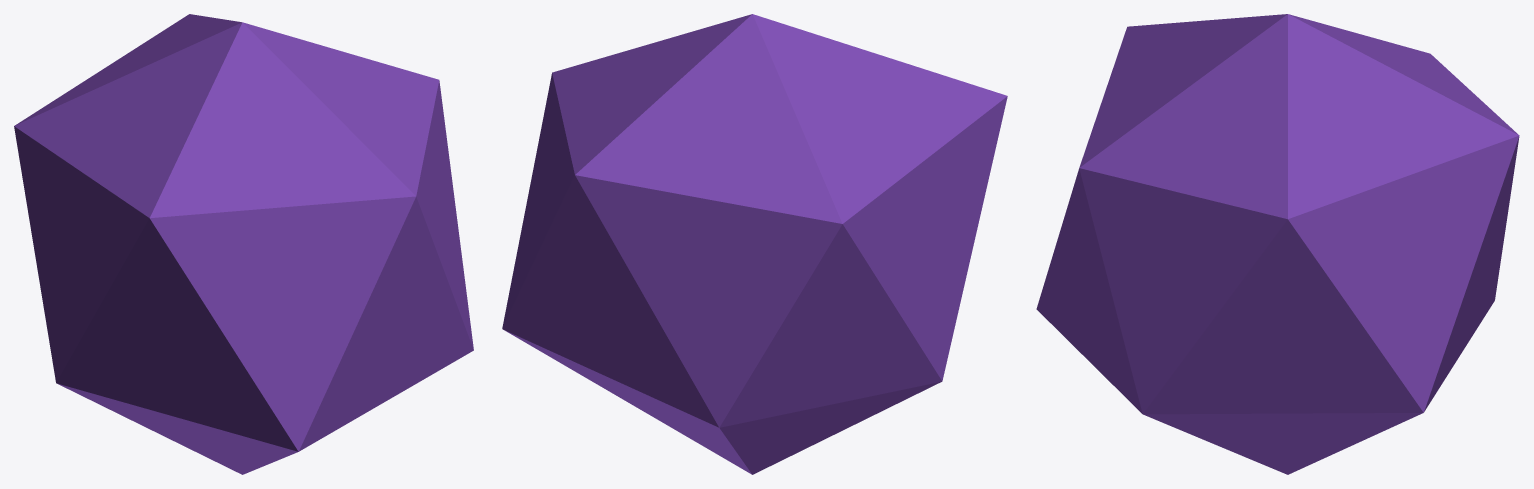
File: rock_0.glb
3 views of the same model, side by side, from view 1: azimuth 30°, elevation 25°; view 2: azimuth 150°, elevation 25°; view 3: azimuth 270°, elevation 25° (orthographic).
Visible parts, largest first — view 1: rock_0; view 2: rock_0; view 3: rock_0.
Part boxes in pixels (box(x1,y1,x2,y2)): rock_0: box(14, 14, 473, 474); rock_0: box(502, 14, 1007, 474); rock_0: box(1036, 14, 1519, 474).
Bounding box in the file's own units: 0.8152 × 0.92 × 0.8738.
